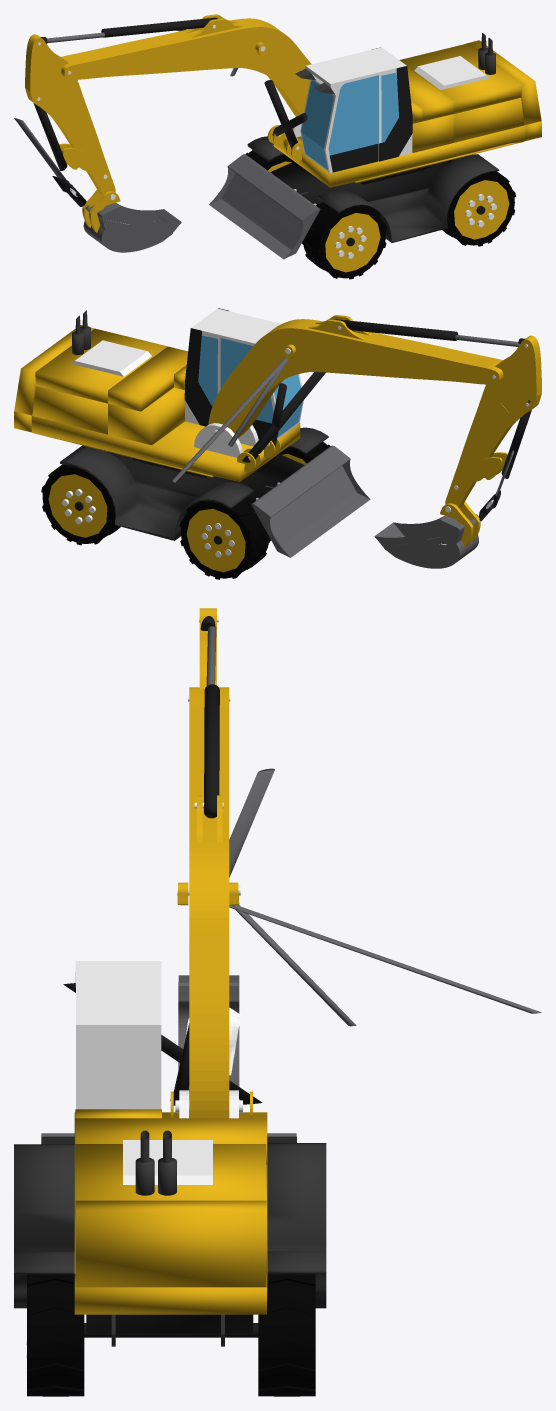
Rendered from excavator.glb.
3 views of the same model, one above another, from view 1: azimuth 30°, elevation 25°; view 2: azimuth 150°, elevation 25°; view 3: azimuth 270°, elevation 25° (orthographic). The views are drawn at different scales.
Parts seen in each view (by area): view 1: Plane.003, boom, front_blade, Circle.008, arm, cab, bucket, Plane.002, Plane.010, Yanta_2, Circle.002, Circle.007 (+18 smaller); view 2: Plane.003, boom, front_blade, Circle.009, arm, bucket, Plane.010, Yanta_3, Circle.003, Circle.005, cab, Yanta_3.001 (+19 smaller); view 3: Plane.003, boom, cab, Circle.008, Circle.009, Yanta_3.001, Yanta_2.001, Plane.010, Radiador, Cylinder.006, Cylinder.017, bucket (+3 smaller).
Boxes of the visible parts, x1,y1,x2,y2 form: Plane.003: (273, 40, 541, 187); boom: (61, 18, 311, 116); front_blade: (209, 154, 320, 259); Circle.008: (318, 154, 499, 242); arm: (25, 34, 115, 195); cab: (300, 47, 412, 173); bucket: (83, 201, 181, 252); Plane.002: (328, 75, 378, 155); Plane.010: (270, 158, 458, 204); Yanta_2: (302, 201, 387, 279); Circle.002: (325, 213, 380, 272); Circle.007: (454, 180, 509, 239); Plane.003: (14, 325, 300, 481); boom: (208, 319, 503, 437); front_blade: (251, 445, 370, 557); Circle.009: (60, 445, 253, 540); arm: (445, 335, 541, 507); bucket: (374, 514, 478, 568); Plane.010: (108, 452, 304, 500); Yanta_3: (179, 497, 270, 579); Circle.003: (186, 508, 245, 572); Circle.005: (48, 474, 107, 537); cab: (184, 308, 303, 438); Yanta_3.001: (41, 464, 120, 545); Plane.003: (74, 1109, 267, 1314); boom: (189, 687, 229, 1118); cab: (75, 961, 161, 1109); Circle.008: (14, 1144, 74, 1308); Circle.009: (267, 1143, 326, 1308); Yanta_3.001: (258, 1274, 315, 1396); Yanta_2.001: (27, 1274, 84, 1396); Plane.010: (86, 1314, 253, 1333); Radiador: (123, 1140, 212, 1184); Cylinder.006: (204, 684, 219, 818); Cylinder.017: (229, 905, 541, 1013); bucket: (178, 975, 239, 1091).
Size of the model in its own units: 4.58 by 2.46 by 2.58.
